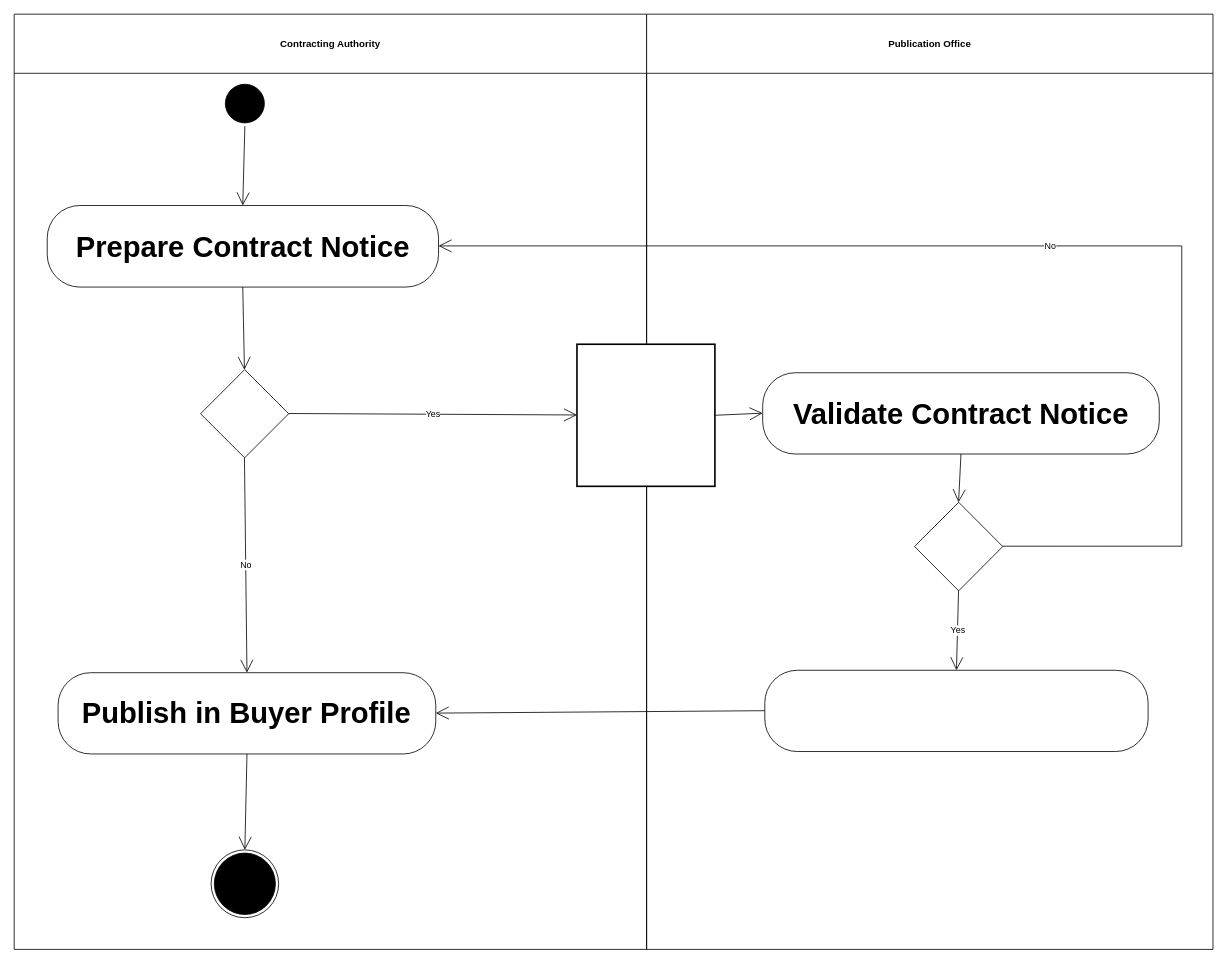
This 1227x964 diagram has some shape labels left out. Here are the shapes that lost their labels. From the top down, the box of each, then its label:
(576, 343, 715, 487): Contract Notice
(914, 501, 1003, 591): OK?
(764, 669, 1148, 752): Publish Contract Notice
